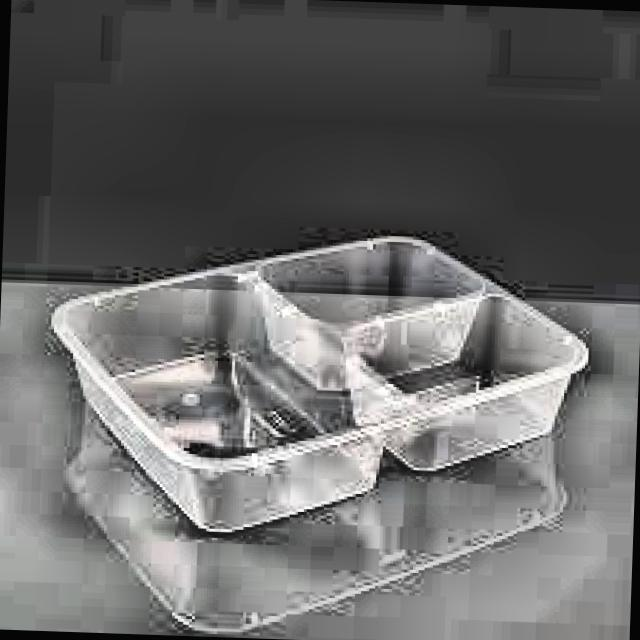plastic container: (54, 237, 588, 531)
